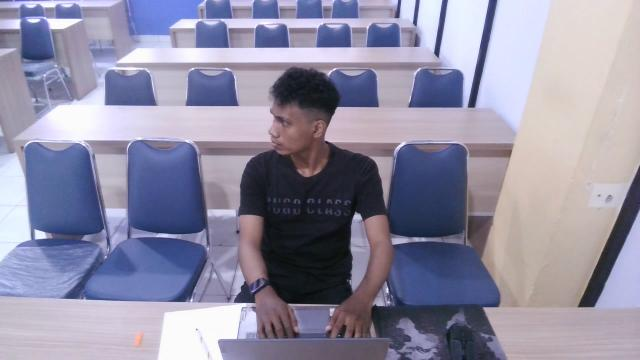Gaze_Aversion: (234, 58, 383, 191)
